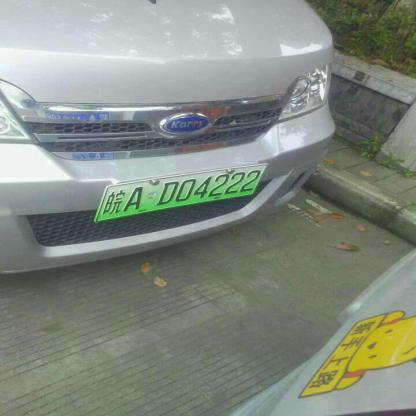lp: (97, 163, 264, 221)
